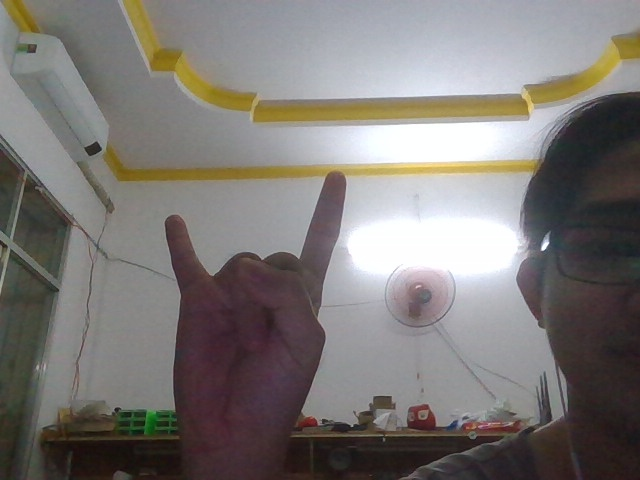yolo: (147, 149, 351, 456)
